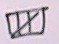kok: (1, 1, 58, 44)
